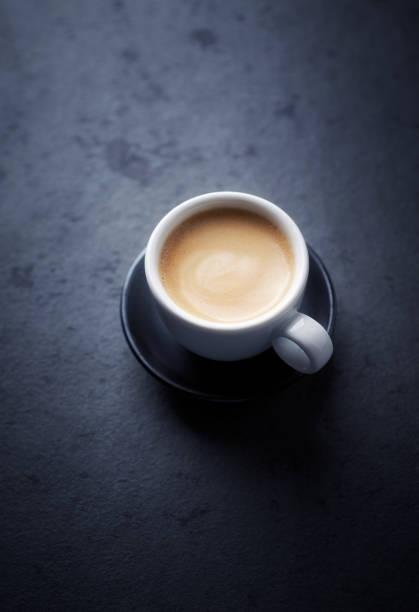cup-handle: (142, 190, 334, 375)
